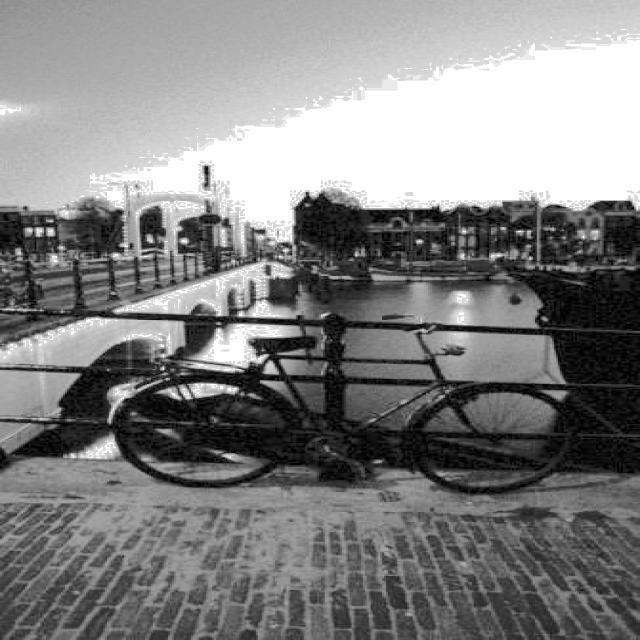Bicycle: (113, 309, 568, 494)
